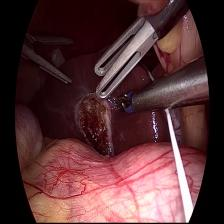Bipolar: (110, 88, 138, 121)
Grasper: (80, 8, 169, 111), (15, 25, 82, 97)
